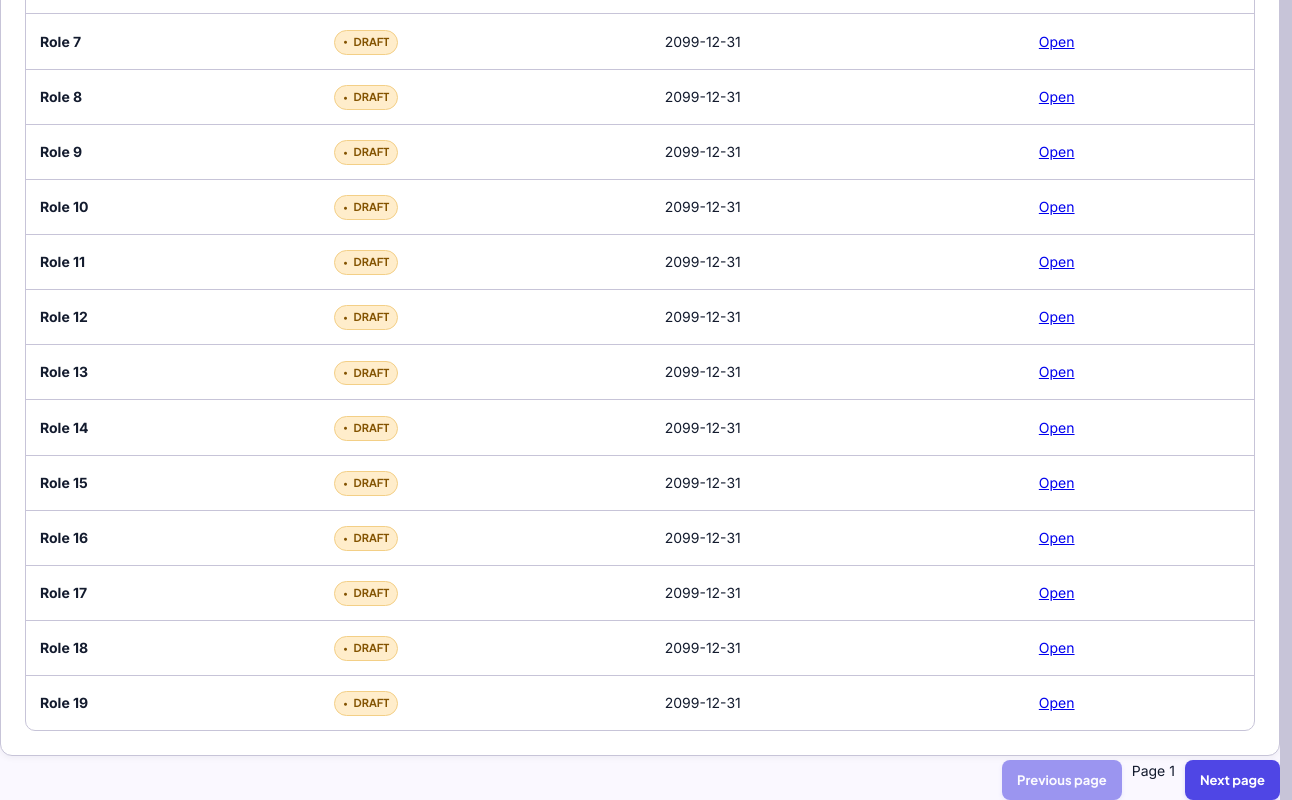
advances and returns through server-backed posting pages
(page scrolled)
Step 1. Click the button "Next page" → click(1232, 780), box [1185, 760, 1280, 799]
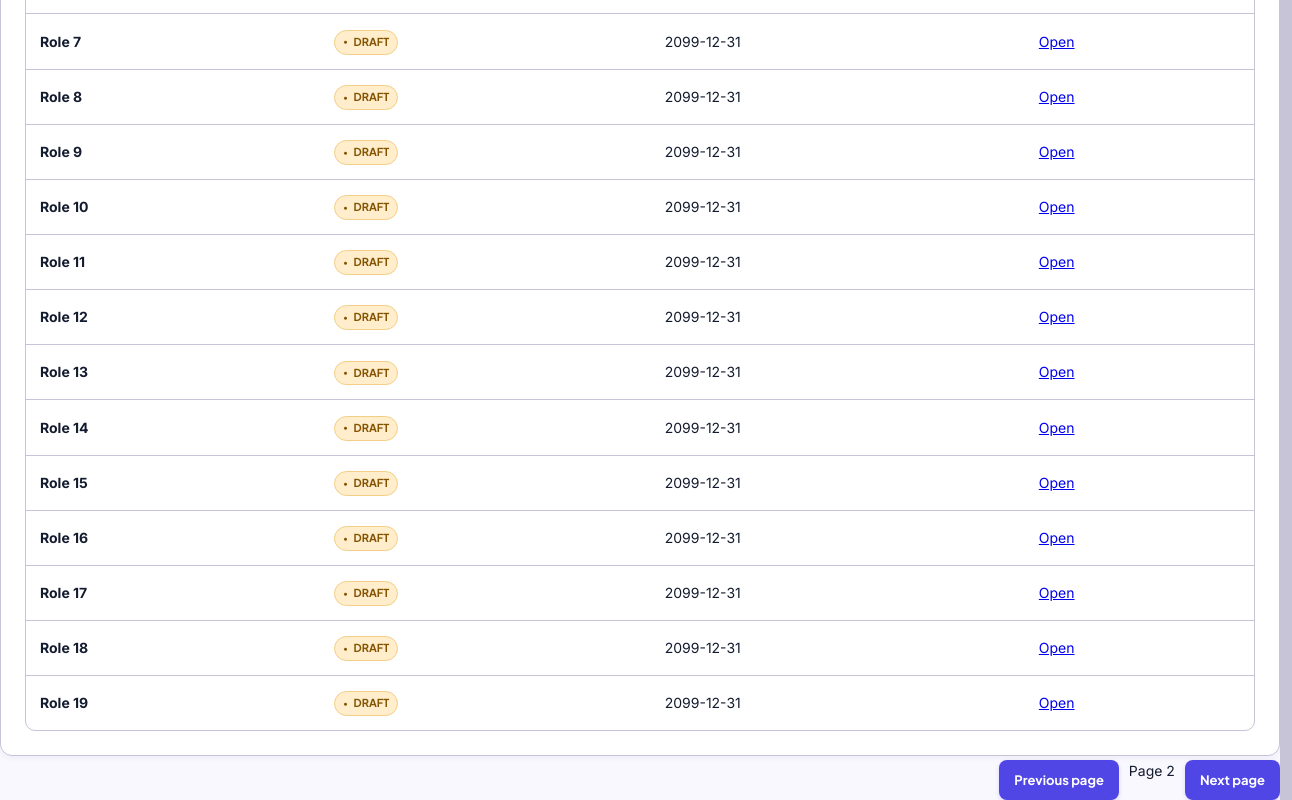
Step 2. Click the button "Previous page" → click(1059, 780), box [999, 760, 1119, 799]
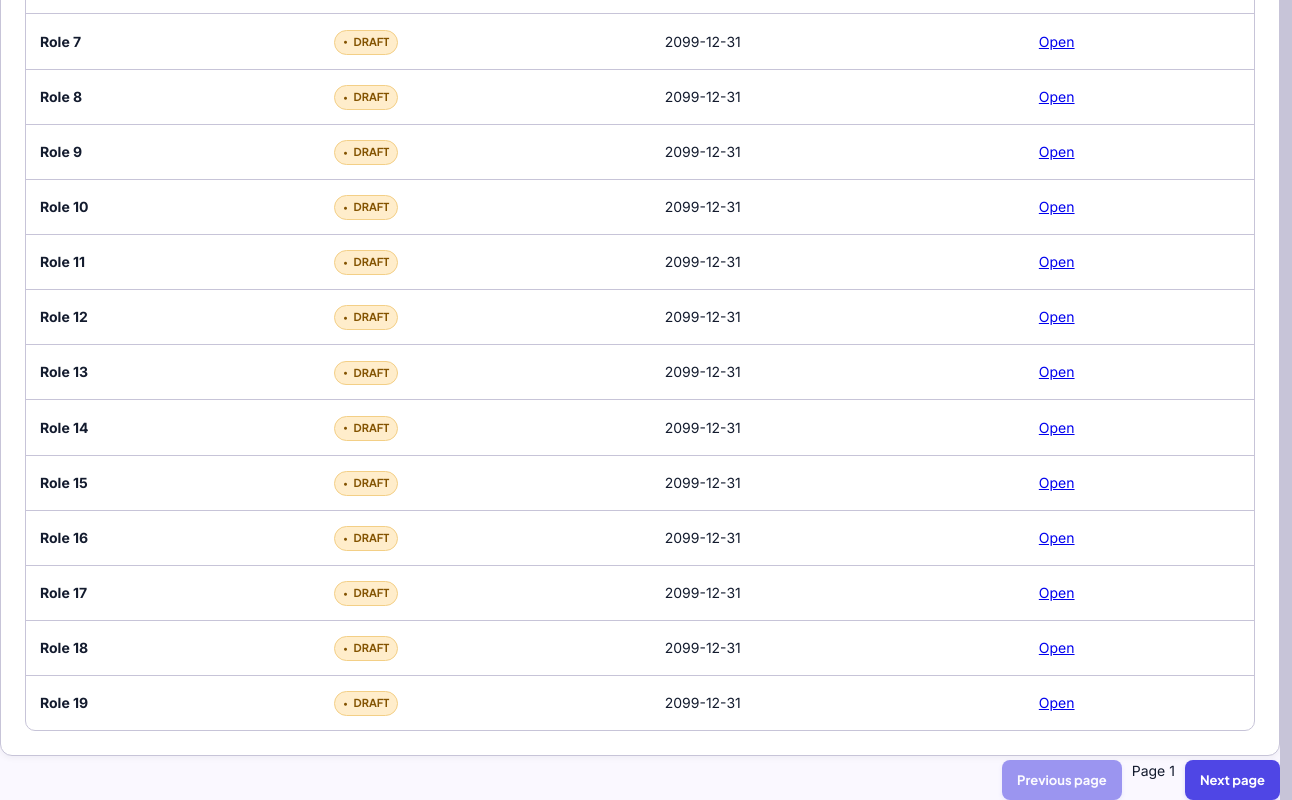
Expected: the text "Page 1" is shown, [1132, 762, 1175, 779]
